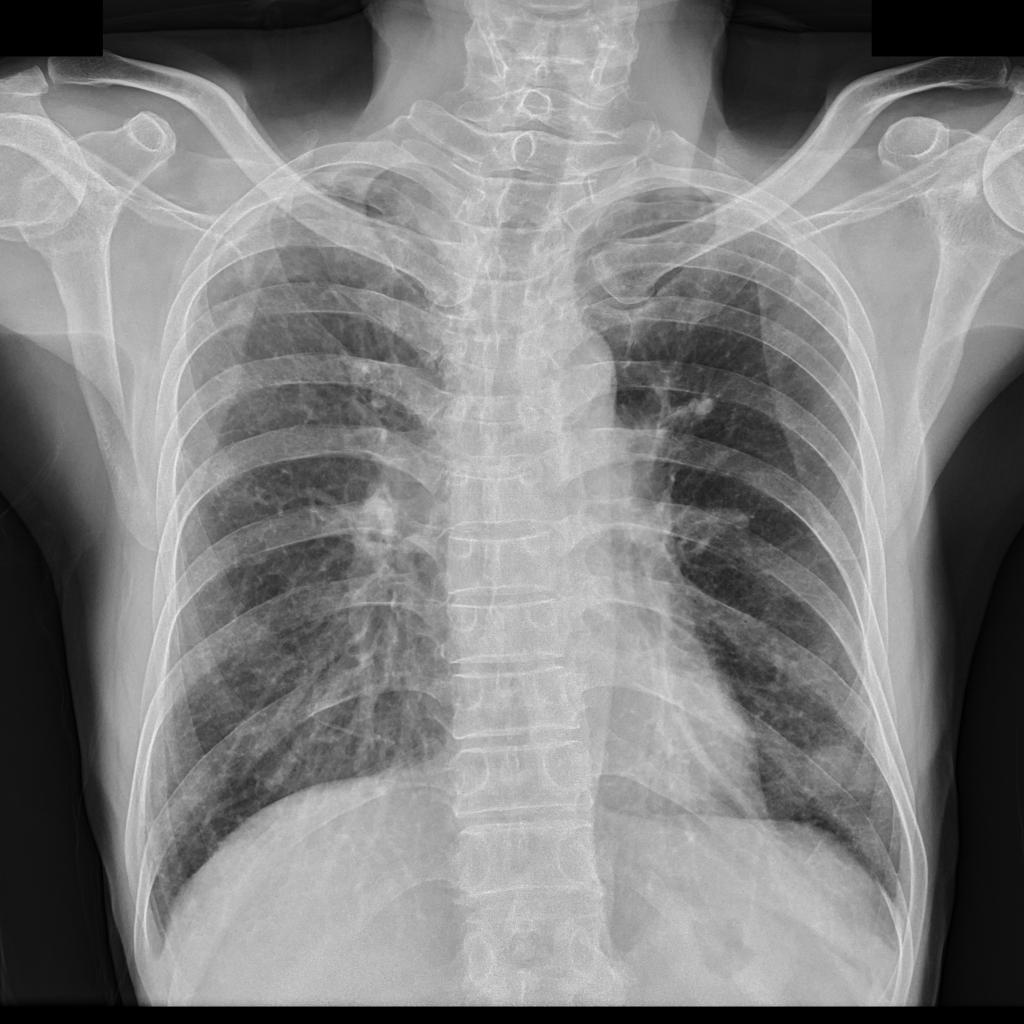Nodule: (802, 743, 873, 796)
